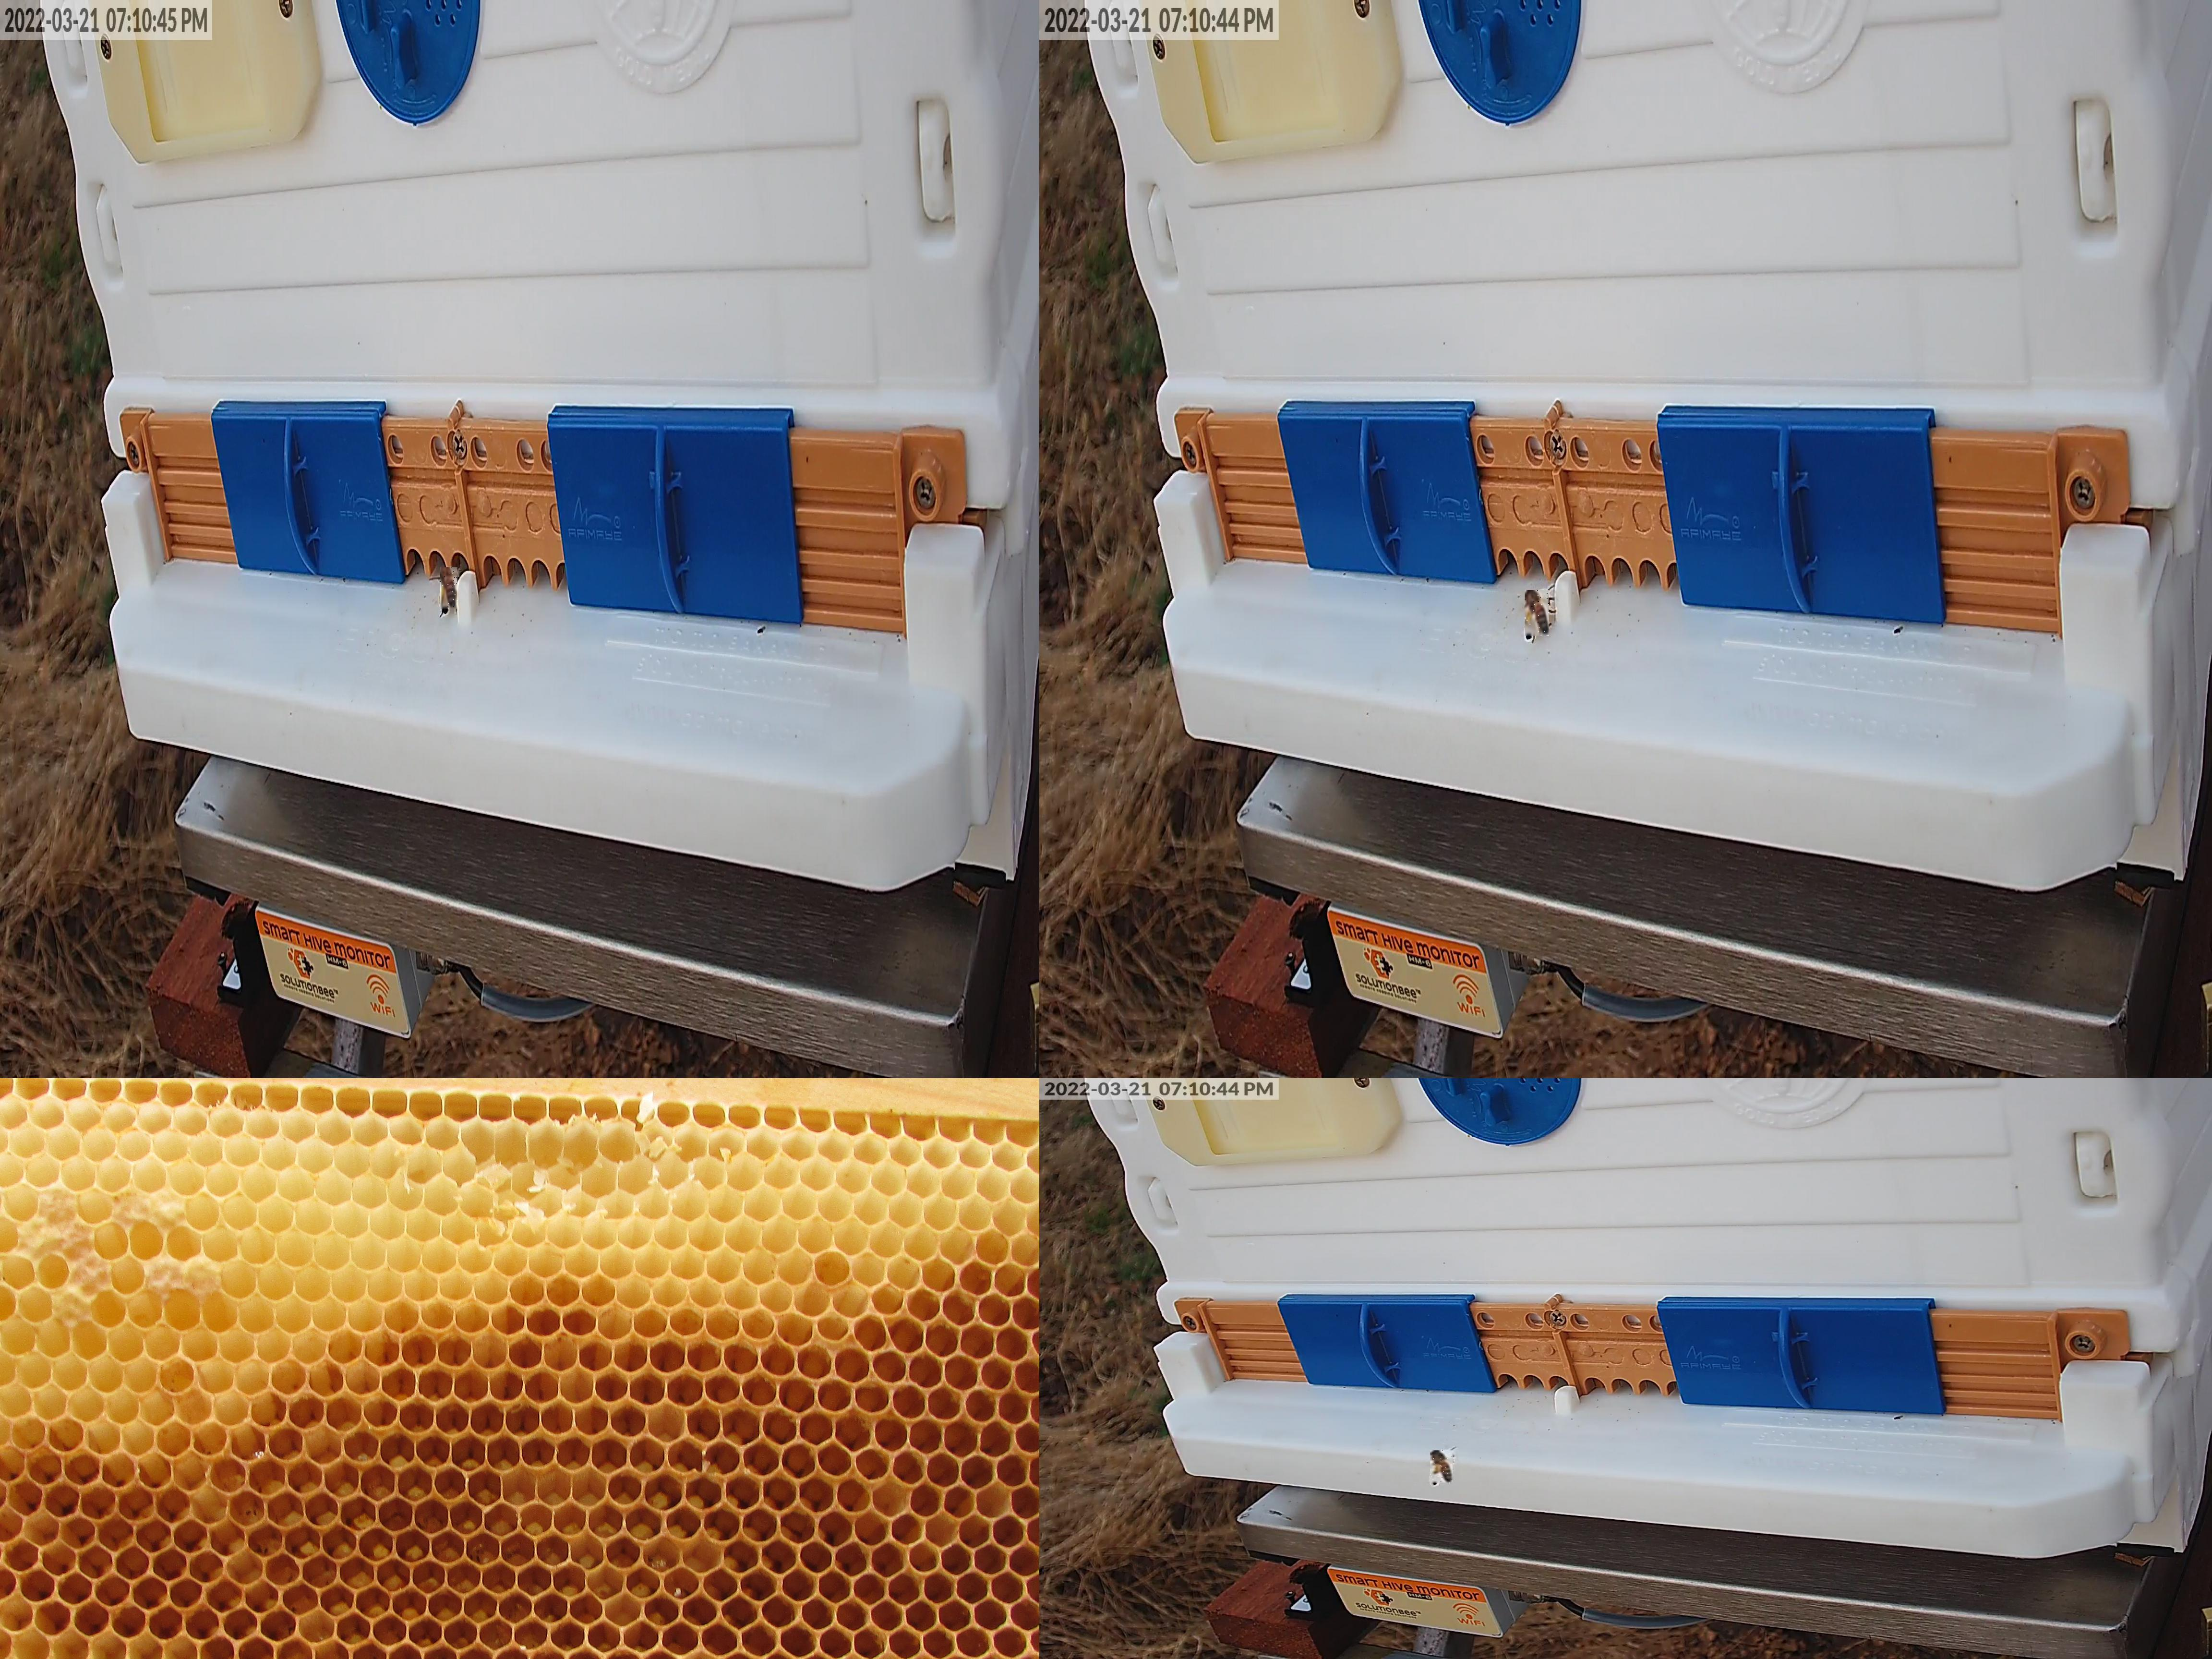pollenbee: (1524, 591, 1550, 640), (441, 568, 458, 612), (1430, 1452, 1453, 1485)
